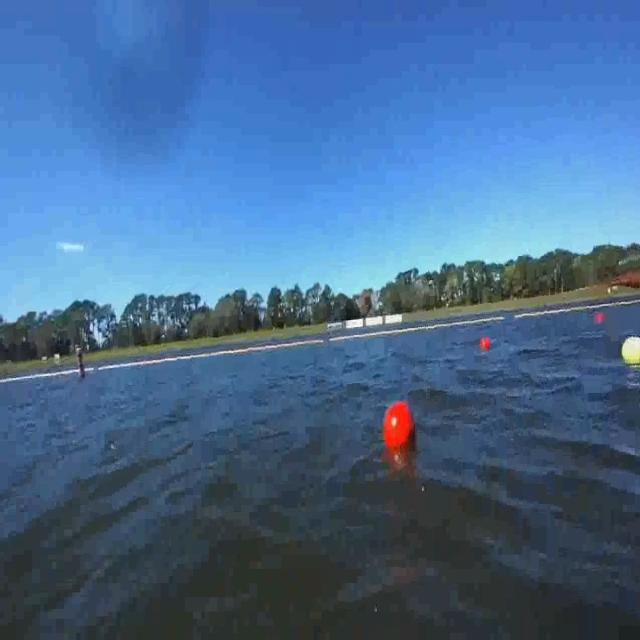red-buoy: (384, 400, 415, 451), (481, 337, 492, 354), (596, 313, 606, 323)
yellow-buoy: (621, 337, 640, 366)
